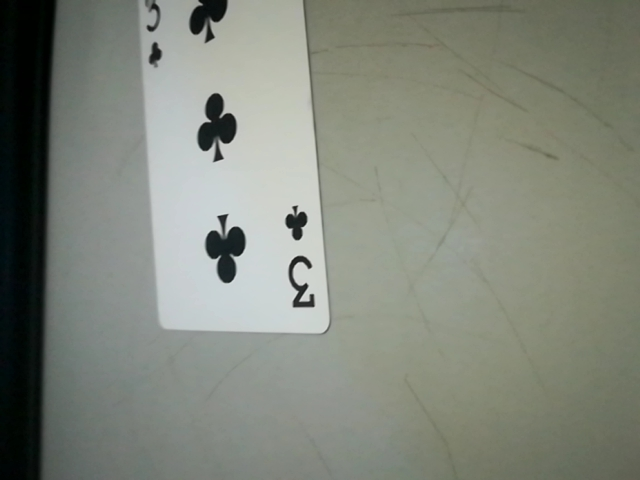mh 3: (275, 196, 327, 328)
